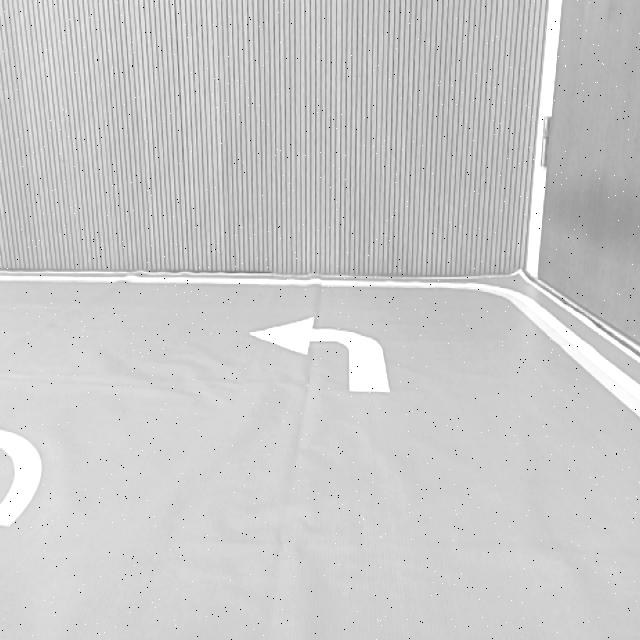left_lane: (0, 457, 39, 526)
right_lane: (514, 297, 640, 418)
